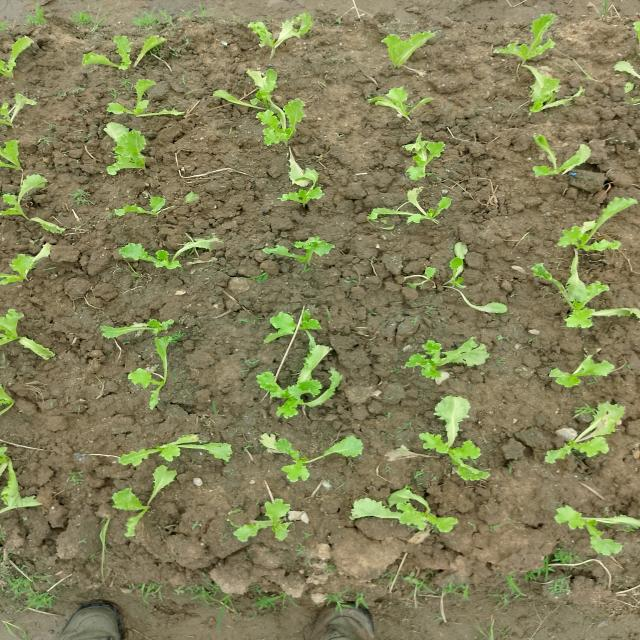Lettuce: (410, 240, 520, 325), (220, 66, 321, 145), (531, 258, 640, 331), (410, 392, 501, 478), (536, 394, 636, 470), (259, 337, 338, 427), (536, 182, 628, 254), (330, 488, 470, 534), (266, 433, 378, 485), (548, 500, 640, 562), (114, 426, 236, 471), (104, 463, 175, 536), (403, 331, 494, 384), (366, 181, 465, 228), (92, 311, 192, 356), (227, 488, 303, 547), (512, 62, 586, 121), (486, 15, 566, 67), (371, 23, 457, 71), (518, 127, 596, 179), (112, 237, 224, 270), (358, 80, 442, 124), (545, 342, 618, 389), (264, 303, 326, 358), (0, 167, 50, 235), (101, 121, 160, 178), (245, 14, 325, 56), (124, 365, 188, 417), (257, 164, 328, 209), (120, 76, 186, 120), (258, 236, 343, 270), (397, 130, 452, 182), (120, 26, 178, 74), (112, 190, 176, 226)
